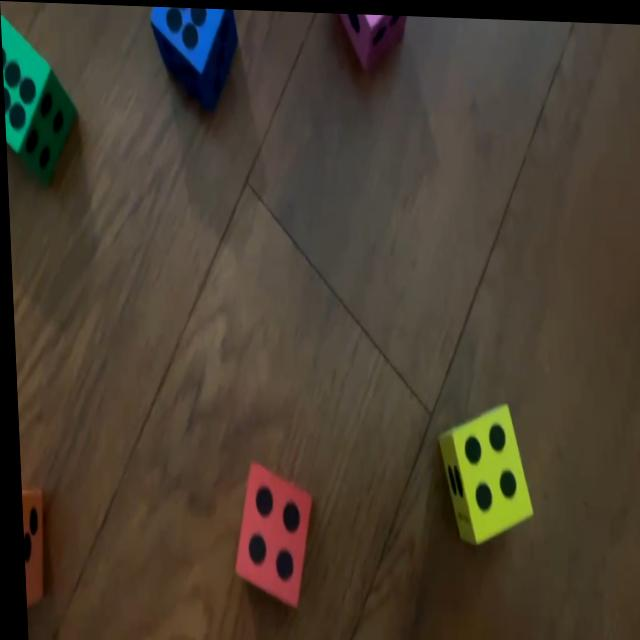cube: (0, 13, 74, 185), (227, 461, 310, 604), (149, 4, 240, 109)
